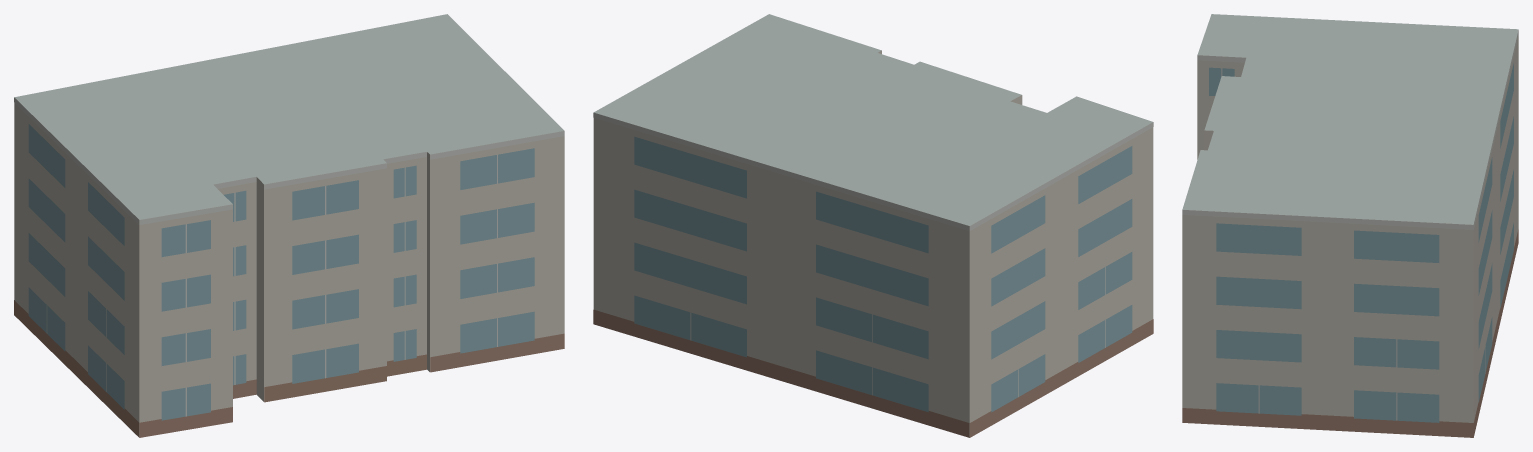
File: survey-upis-32662555.glb
The picture shows the model from 3 angles, left to right: view 1: azimuth 30°, elevation 25°; view 2: azimuth 150°, elevation 25°; view 3: azimuth 270°, elevation 25°; orthographic projection. The views are drawn at different scales.
Visible parts, largest first — view 1: survey-upis-32662555.tmp; view 2: survey-upis-32662555.tmp; view 3: survey-upis-32662555.tmp.
Boxes of the visible parts, <box> form: survey-upis-32662555.tmp: <box>14,14,564,437</box>; survey-upis-32662555.tmp: <box>593,14,1153,437</box>; survey-upis-32662555.tmp: <box>1182,14,1518,437</box>.
Bounding box in the file's own units: 21.77 × 10.25 × 14.68.
